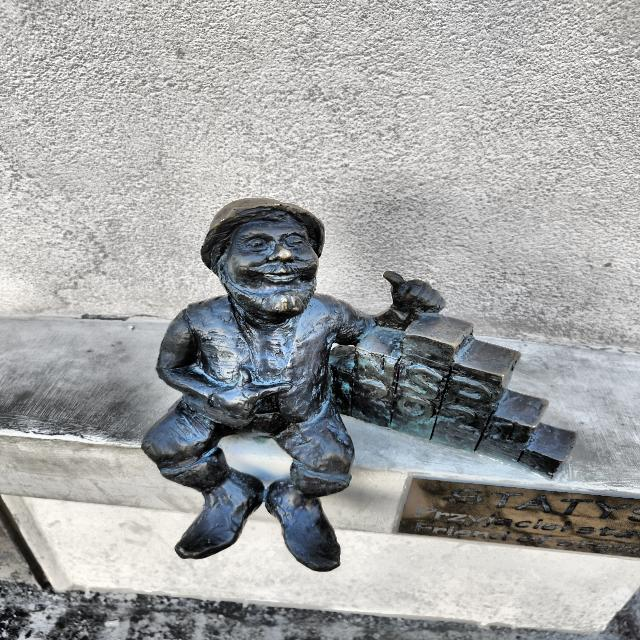Statyslaw: (143, 199, 575, 571)
